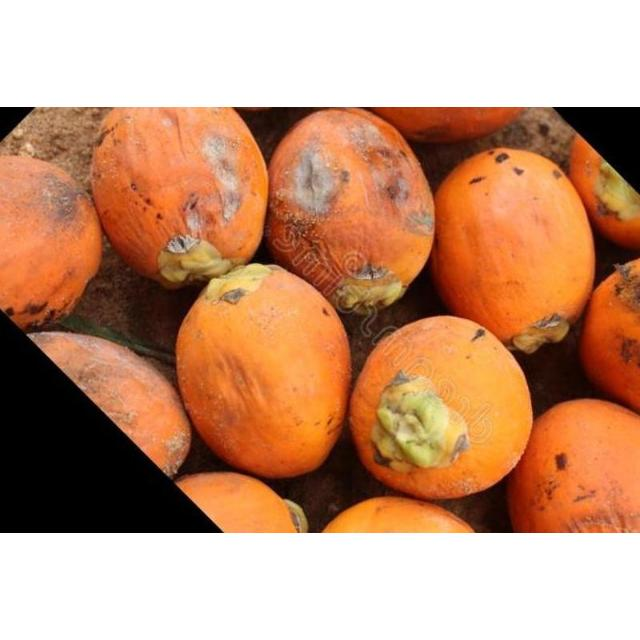good: (174, 261, 355, 482), (427, 147, 597, 353), (347, 316, 533, 502), (89, 107, 270, 289), (263, 110, 436, 295), (30, 333, 196, 480), (0, 156, 106, 333), (503, 399, 639, 533), (582, 260, 639, 415)
